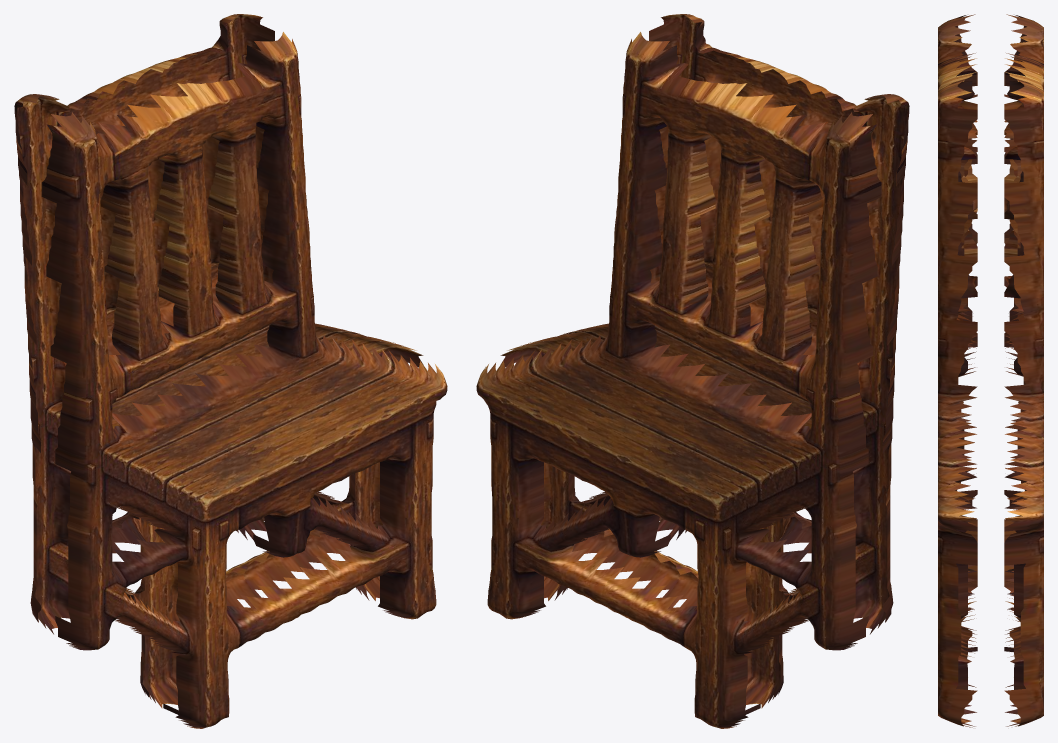
The model's file is v4-taproom-scatter-chair.glb.
The picture shows the model from 3 angles, left to right: view 1: azimuth 30°, elevation 25°; view 2: azimuth 150°, elevation 25°; view 3: azimuth 270°, elevation 25°; orthographic projection. The views are drawn at different scales.
Parts seen in each view (by area): view 1: v4-taproom-scatter-chair; view 2: v4-taproom-scatter-chair; view 3: v4-taproom-scatter-chair.
Part boxes in pixels (bbox=[...]): v4-taproom-scatter-chair: bbox=[14, 14, 447, 728]; v4-taproom-scatter-chair: bbox=[476, 14, 909, 728]; v4-taproom-scatter-chair: bbox=[938, 14, 1043, 727].
Bounding box in the file's own units: 0.5803 × 0.9367 × 0.1424.
Materials: 1 (1 with a texture image).
